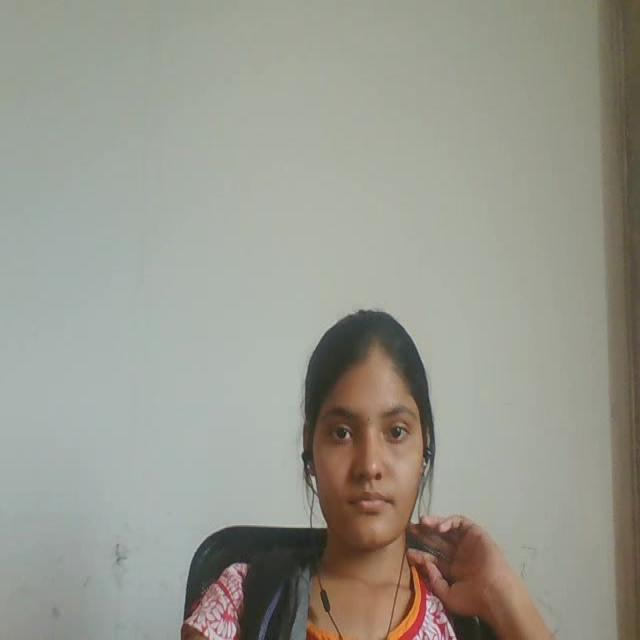Engaged: (275, 266, 463, 586)
